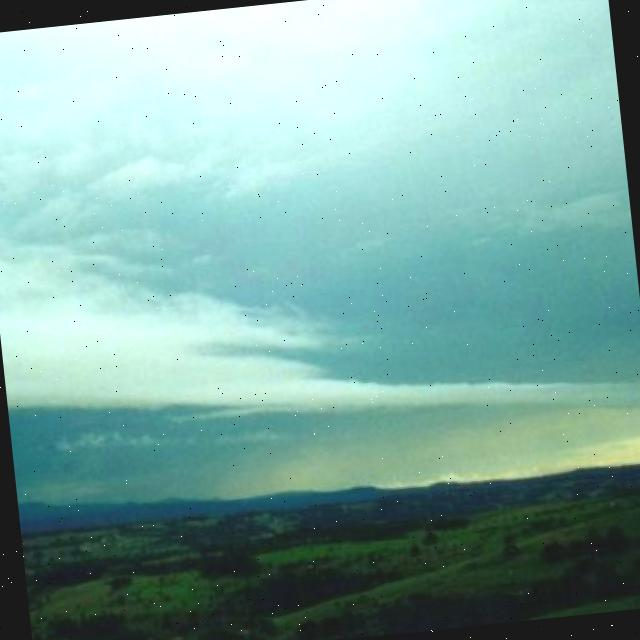St: (1, 156, 640, 491)
